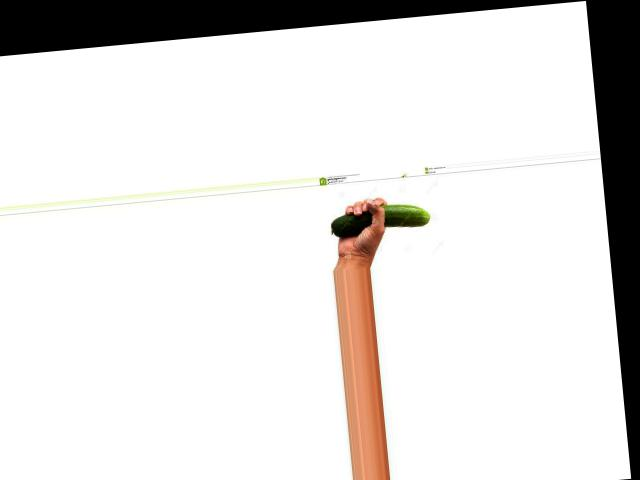cucumber: (330, 200, 431, 237)
